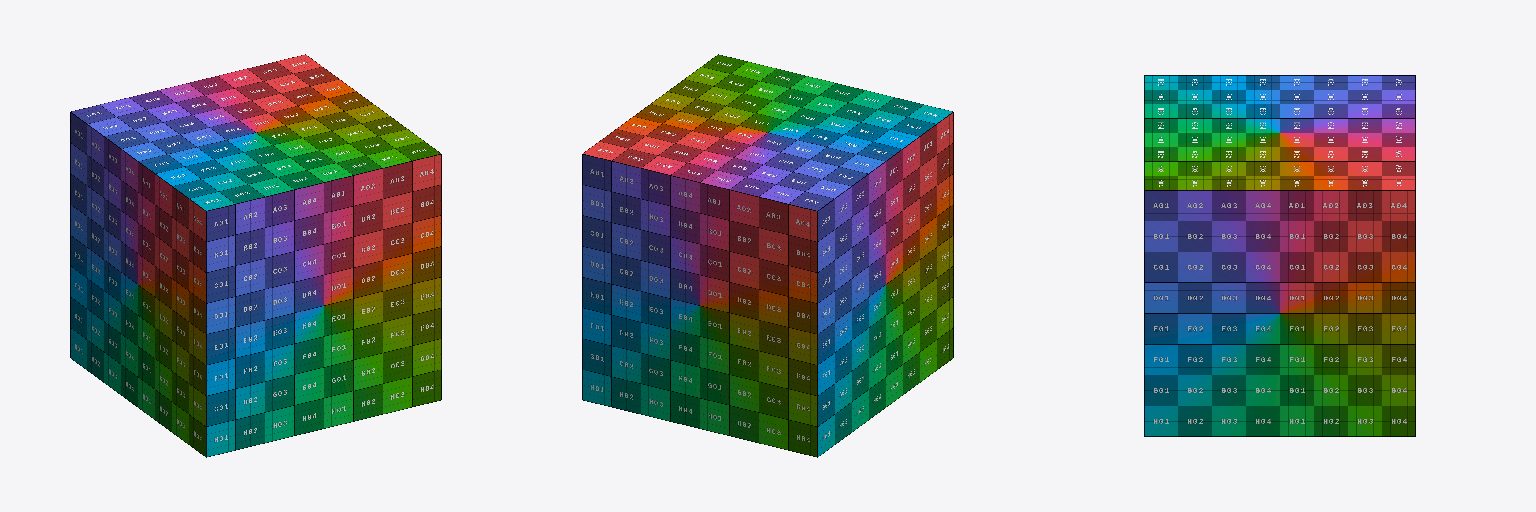
3 views of the same model, side by side, from view 1: azimuth 30°, elevation 25°; view 2: azimuth 150°, elevation 25°; view 3: azimuth 270°, elevation 25° (orthographic).
Visible parts, largest first — view 1: Box005; view 2: Box005; view 3: Box005.
Boxes of the visible parts, x1,y1,x2,y2 form: Box005: [70, 54, 441, 457]; Box005: [582, 54, 953, 457]; Box005: [1144, 75, 1415, 436].
Size of the model in its own units: 20 by 20 by 20.
1 materials, 1 textured.